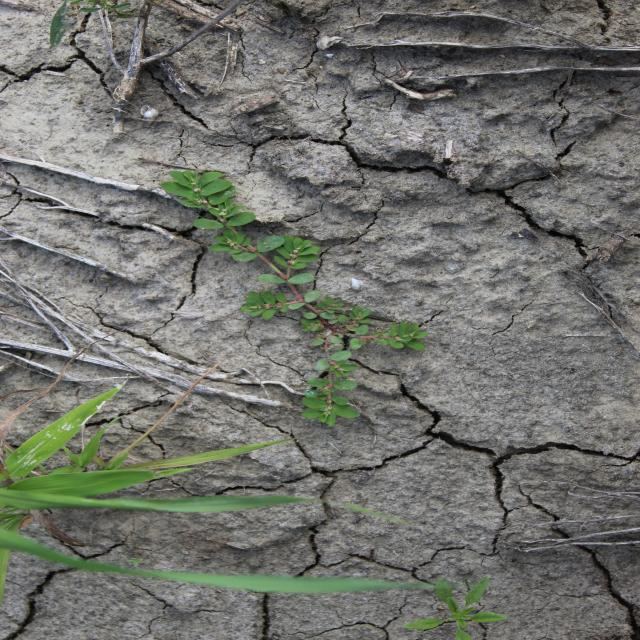SpottedSpurge: (159, 166, 430, 428)
Waterhemp: (397, 577, 510, 639)
